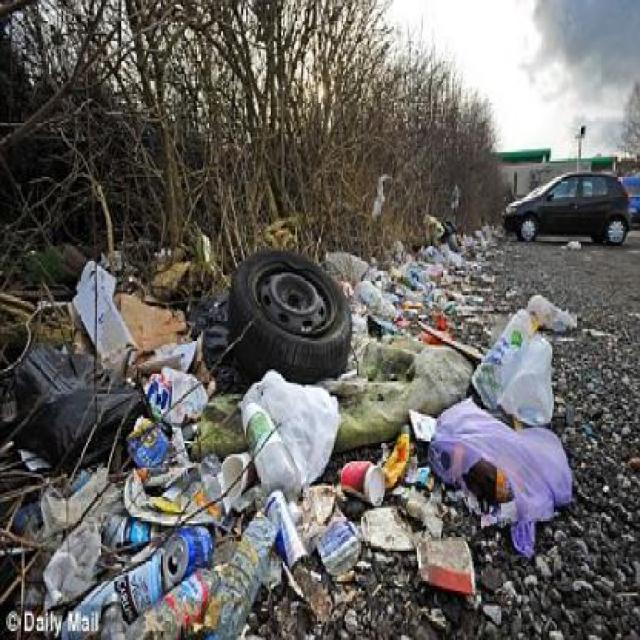garbage: (208, 356, 562, 589), (43, 286, 228, 606), (374, 252, 481, 344)
